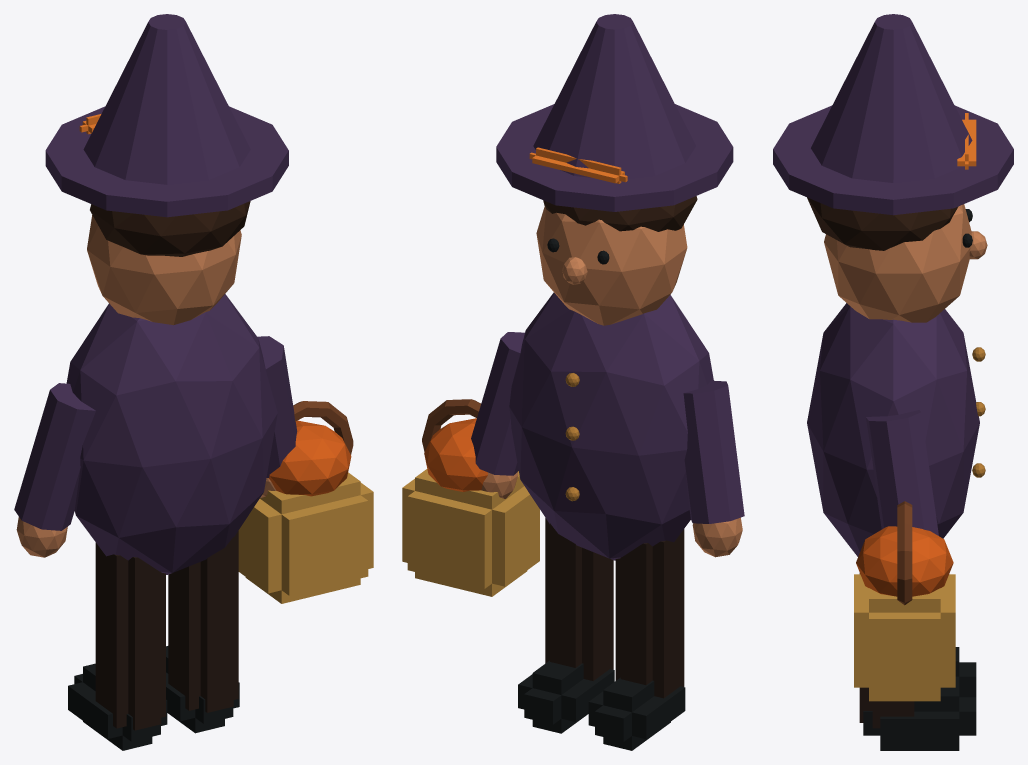
File: folk_2.glb
The picture shows the model from 3 angles, left to right: view 1: azimuth 30°, elevation 25°; view 2: azimuth 150°, elevation 25°; view 3: azimuth 270°, elevation 25°; orthographic projection. The views are drawn at different scales.
Parts seen in each view (by area): view 1: Neighbour.002Mesh; view 2: Neighbour.002Mesh; view 3: Neighbour.002Mesh.
Boxes of the visible parts, x1,y1,x2,y2 form: Neighbour.002Mesh: [14, 14, 373, 750]; Neighbour.002Mesh: [402, 14, 744, 750]; Neighbour.002Mesh: [773, 14, 1013, 750].
Bounding box in the file's own units: 1.01 × 2.06 × 0.64.
